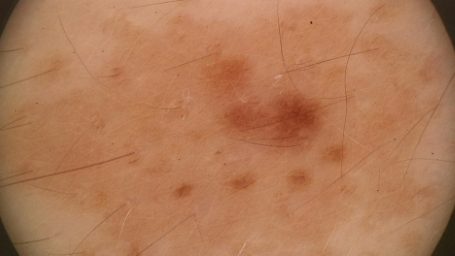melanoma: (201, 53, 326, 153), (173, 181, 198, 204), (286, 170, 311, 188), (230, 173, 254, 189)
w: (330, 147, 348, 164)
